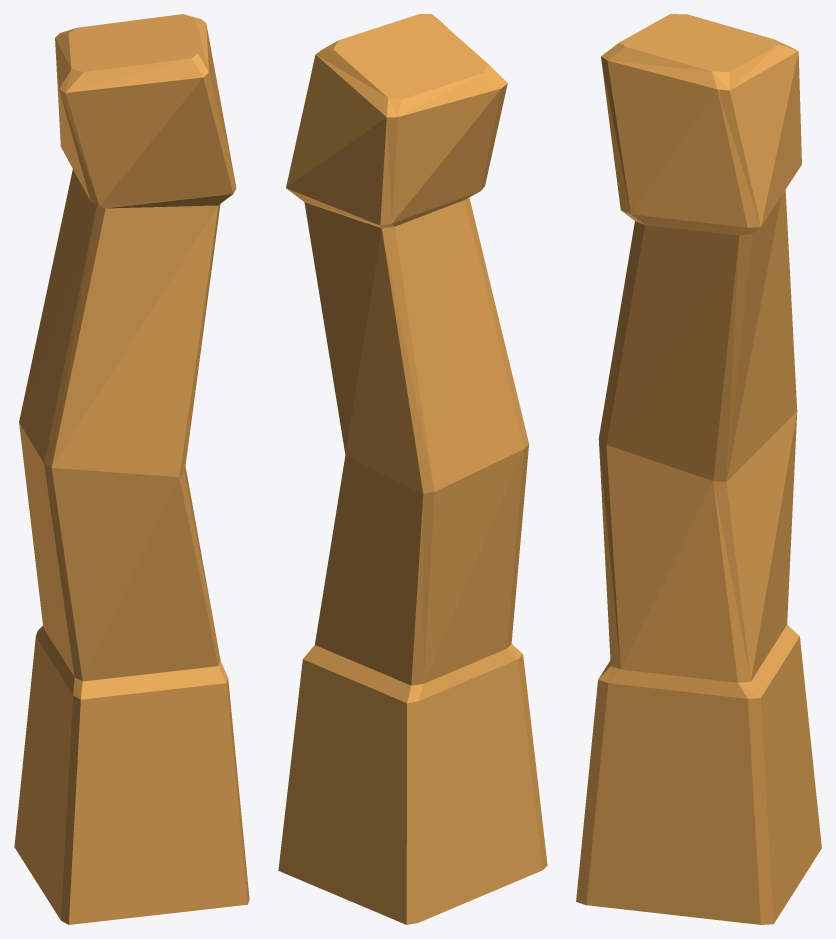
Rendered from Desert_pillar.FBX.
3 renders of one model, left to right at view 1: azimuth 30°, elevation 25°; view 2: azimuth 150°, elevation 25°; view 3: azimuth 270°, elevation 25°, orthographic. The views are drawn at different scales.
Visible parts, largest first — view 1: Box002; view 2: Box002; view 3: Box002.
Part boxes in pixels (left/top/right/bottom): Box002: left=14, top=14, right=249, bottom=924; Box002: left=278, top=14, right=547, bottom=924; Box002: left=576, top=14, right=821, bottom=924.
Size of the model in its own units: 419 by 1651 by 437.
